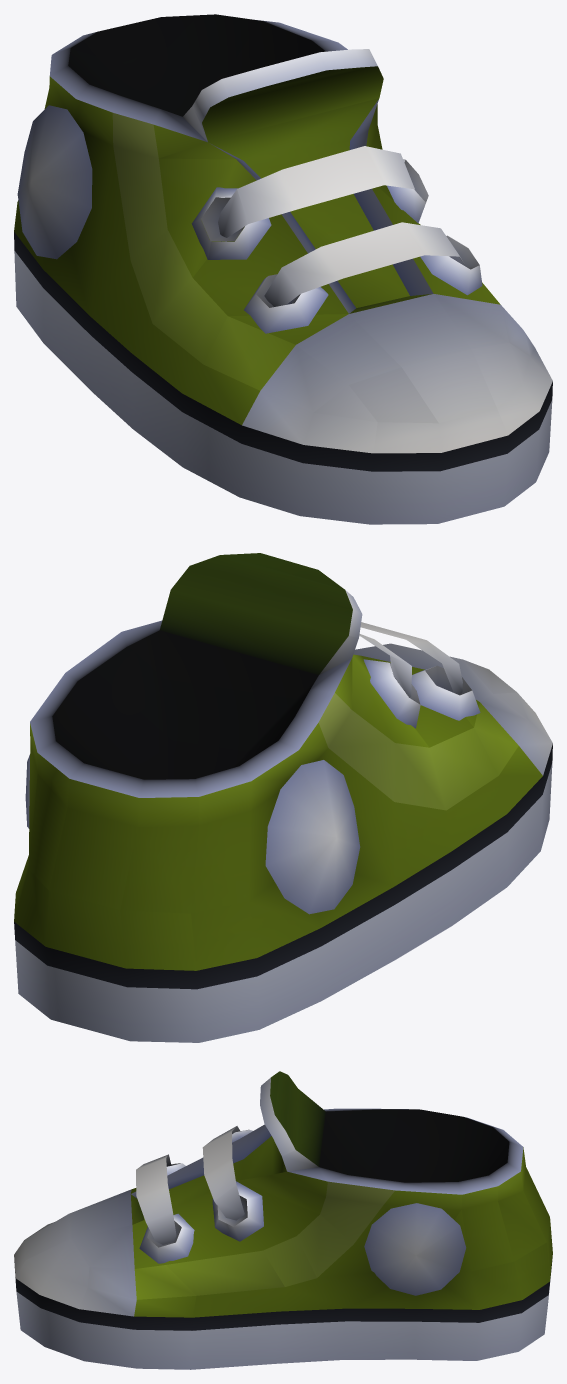
Rendered from Shoes_Kicks_Green_R.gltf.
The picture shows the model from 3 angles, top to bottom: view 1: azimuth 30°, elevation 25°; view 2: azimuth 150°, elevation 25°; view 3: azimuth 270°, elevation 25°; orthographic projection. The views are drawn at different scales.
Parts seen in each view (by area): view 1: Shoes_Kicks_Green_R; view 2: Shoes_Kicks_Green_R; view 3: Shoes_Kicks_Green_R.
Part boxes in pixels (left/top/right/bottom): Shoes_Kicks_Green_R: left=14, top=14, right=552, bottom=524; Shoes_Kicks_Green_R: left=14, top=553, right=552, bottom=1042; Shoes_Kicks_Green_R: left=14, top=1071, right=552, bottom=1369.
Bounding box in the file's own units: 0.3008 × 0.3011 × 0.6317.
2 materials, 2 textured.
